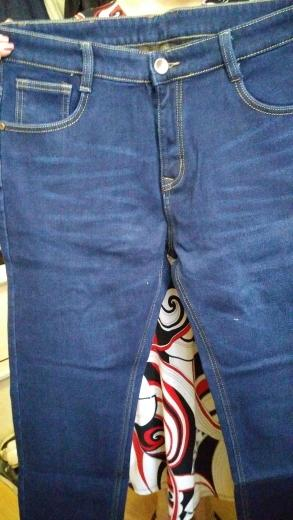jeans: (1, 8, 293, 485)
